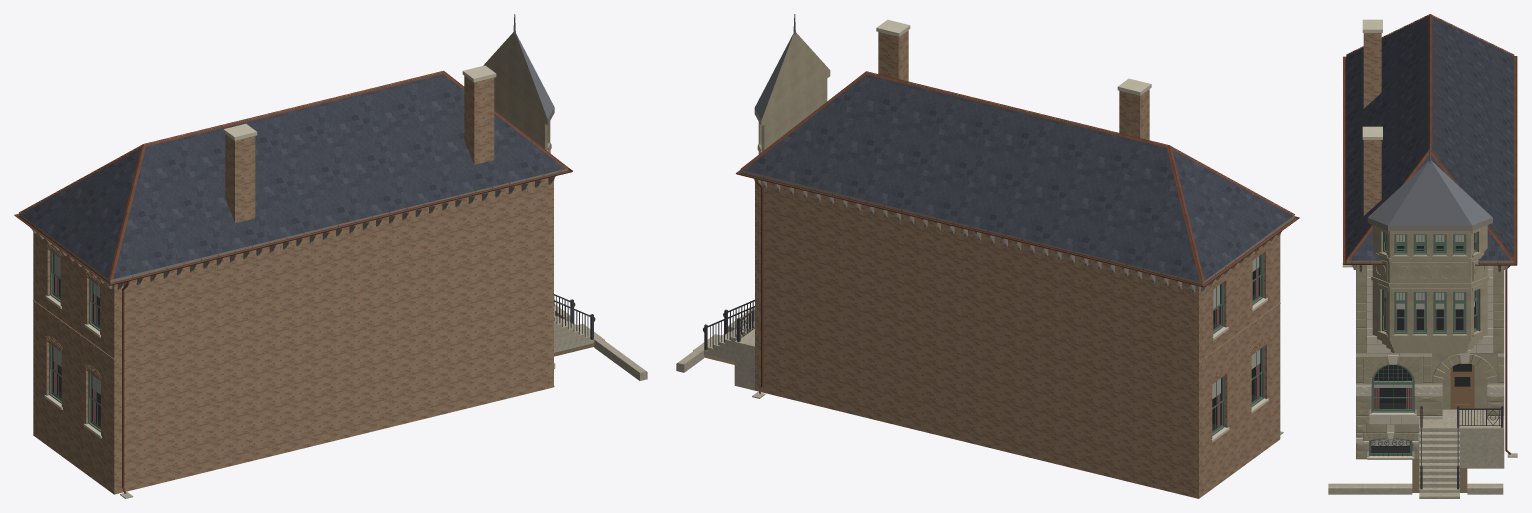
Rendered from house_1623_prairie__as_mapped_1904.glb.
The picture shows the model from 3 angles, left to right: view 1: azimuth 30°, elevation 25°; view 2: azimuth 150°, elevation 25°; view 3: azimuth 270°, elevation 25°; orthographic projection. The views are drawn at different scales.
Parts seen in each view (by area): view 1: house_1623_prairie__as_mapped_1904; view 2: house_1623_prairie__as_mapped_1904; view 3: house_1623_prairie__as_mapped_1904.
Boxes of the visible parts, x1,y1,x2,y2 form: house_1623_prairie__as_mapped_1904: (14,14,647,498); house_1623_prairie__as_mapped_1904: (676,14,1299,498); house_1623_prairie__as_mapped_1904: (1328,14,1517,498).
Bounding box in the file's own units: 23.84 × 14.6 × 7.92.
24 materials, 13 textured.
